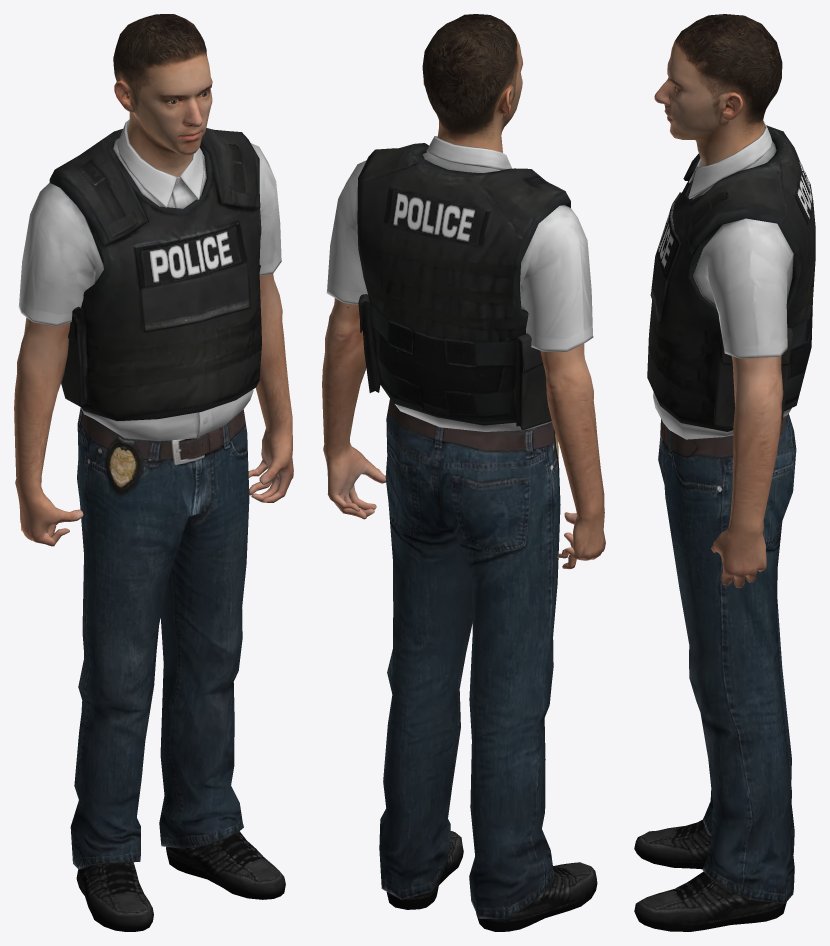
Rendered from police.glb.
3 views of the same model, side by side, from view 1: azimuth 30°, elevation 25°; view 2: azimuth 150°, elevation 25°; view 3: azimuth 270°, elevation 25° (orthographic).
Parts seen in each view (by area): view 1: police; view 2: police; view 3: police.
Boxes of the visible parts, bbox=[...] form: police: bbox=[14, 14, 293, 931]; police: bbox=[322, 14, 605, 931]; police: bbox=[634, 14, 815, 931].
Bounding box in the file's own units: 0.59 × 1.81 × 0.3423.
2 materials, 2 textured.
